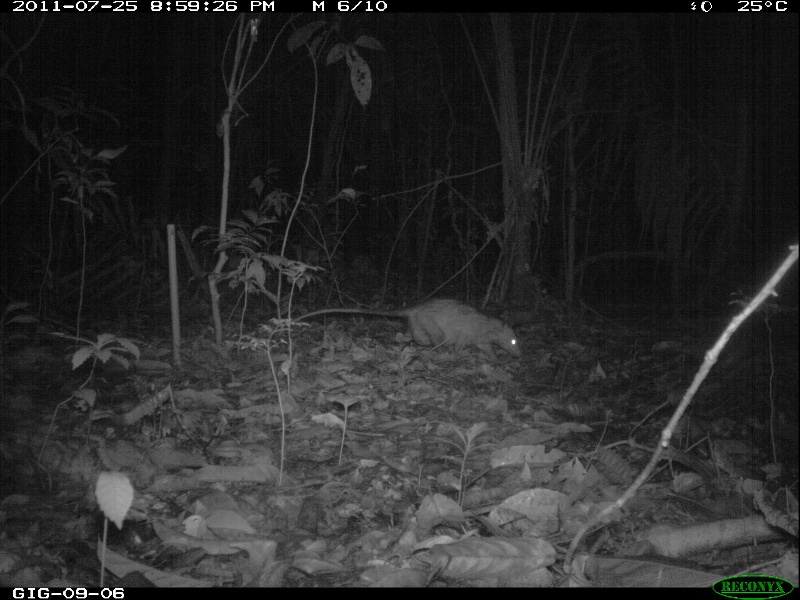opossum: (284, 294, 521, 356)
